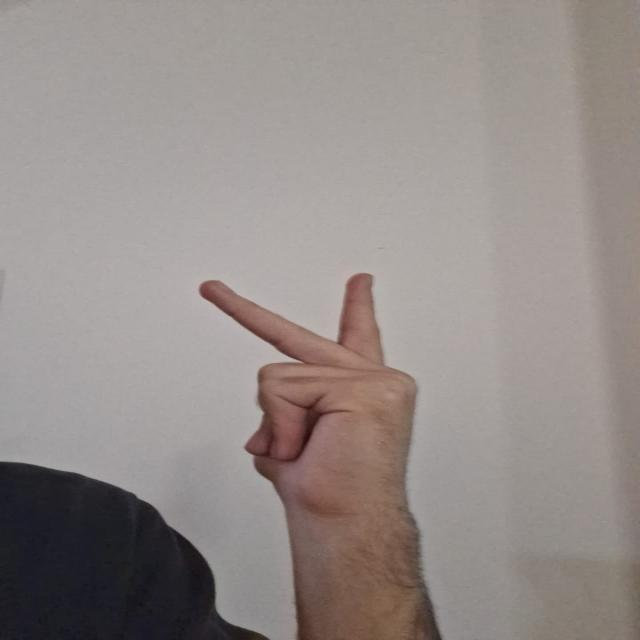K: (184, 264, 426, 488)
